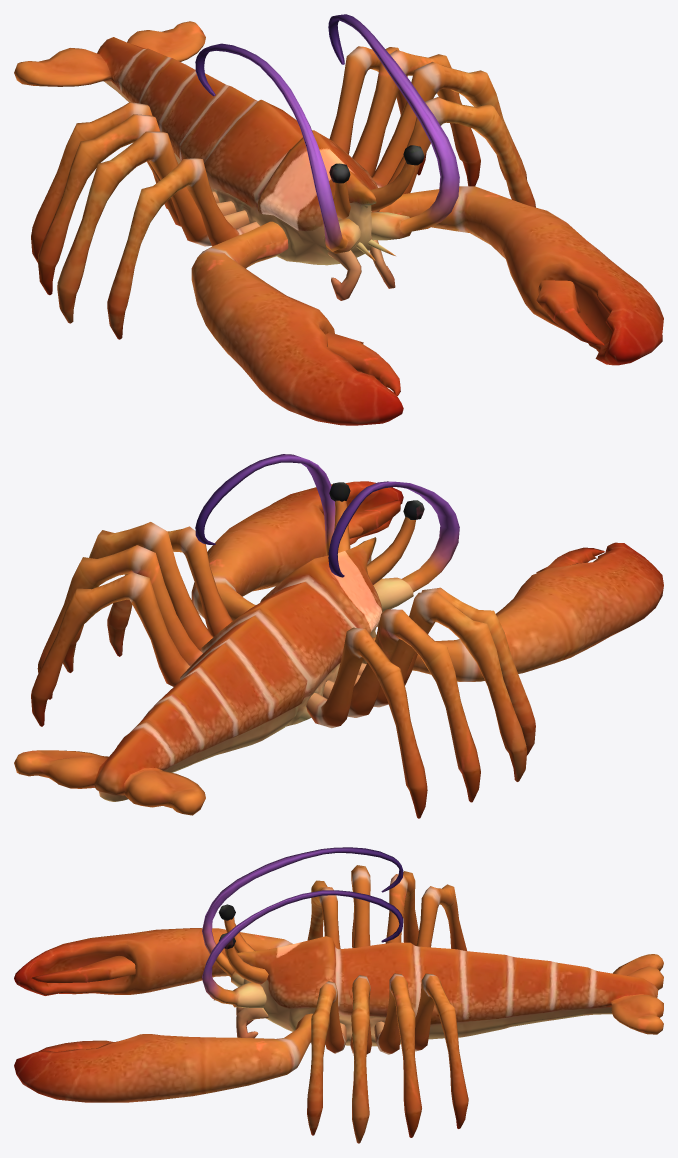
3 renders of one model, top to bottom at view 1: azimuth 30°, elevation 25°; view 2: azimuth 150°, elevation 25°; view 3: azimuth 270°, elevation 25°, orthographic. The views are drawn at different scales.
Visible parts, largest first — view 1: SM_Fish_Lobster_01_LOD0; view 2: SM_Fish_Lobster_01_LOD0; view 3: SM_Fish_Lobster_01_LOD0.
Boxes of the visible parts, x1,y1,x2,y2 form: SM_Fish_Lobster_01_LOD0: [14, 14, 663, 425]; SM_Fish_Lobster_01_LOD0: [14, 454, 663, 818]; SM_Fish_Lobster_01_LOD0: [14, 847, 663, 1143].
Size of the model in its own units: 0.4912 by 0.2382 by 0.7488.
1 material, 1 textured.
